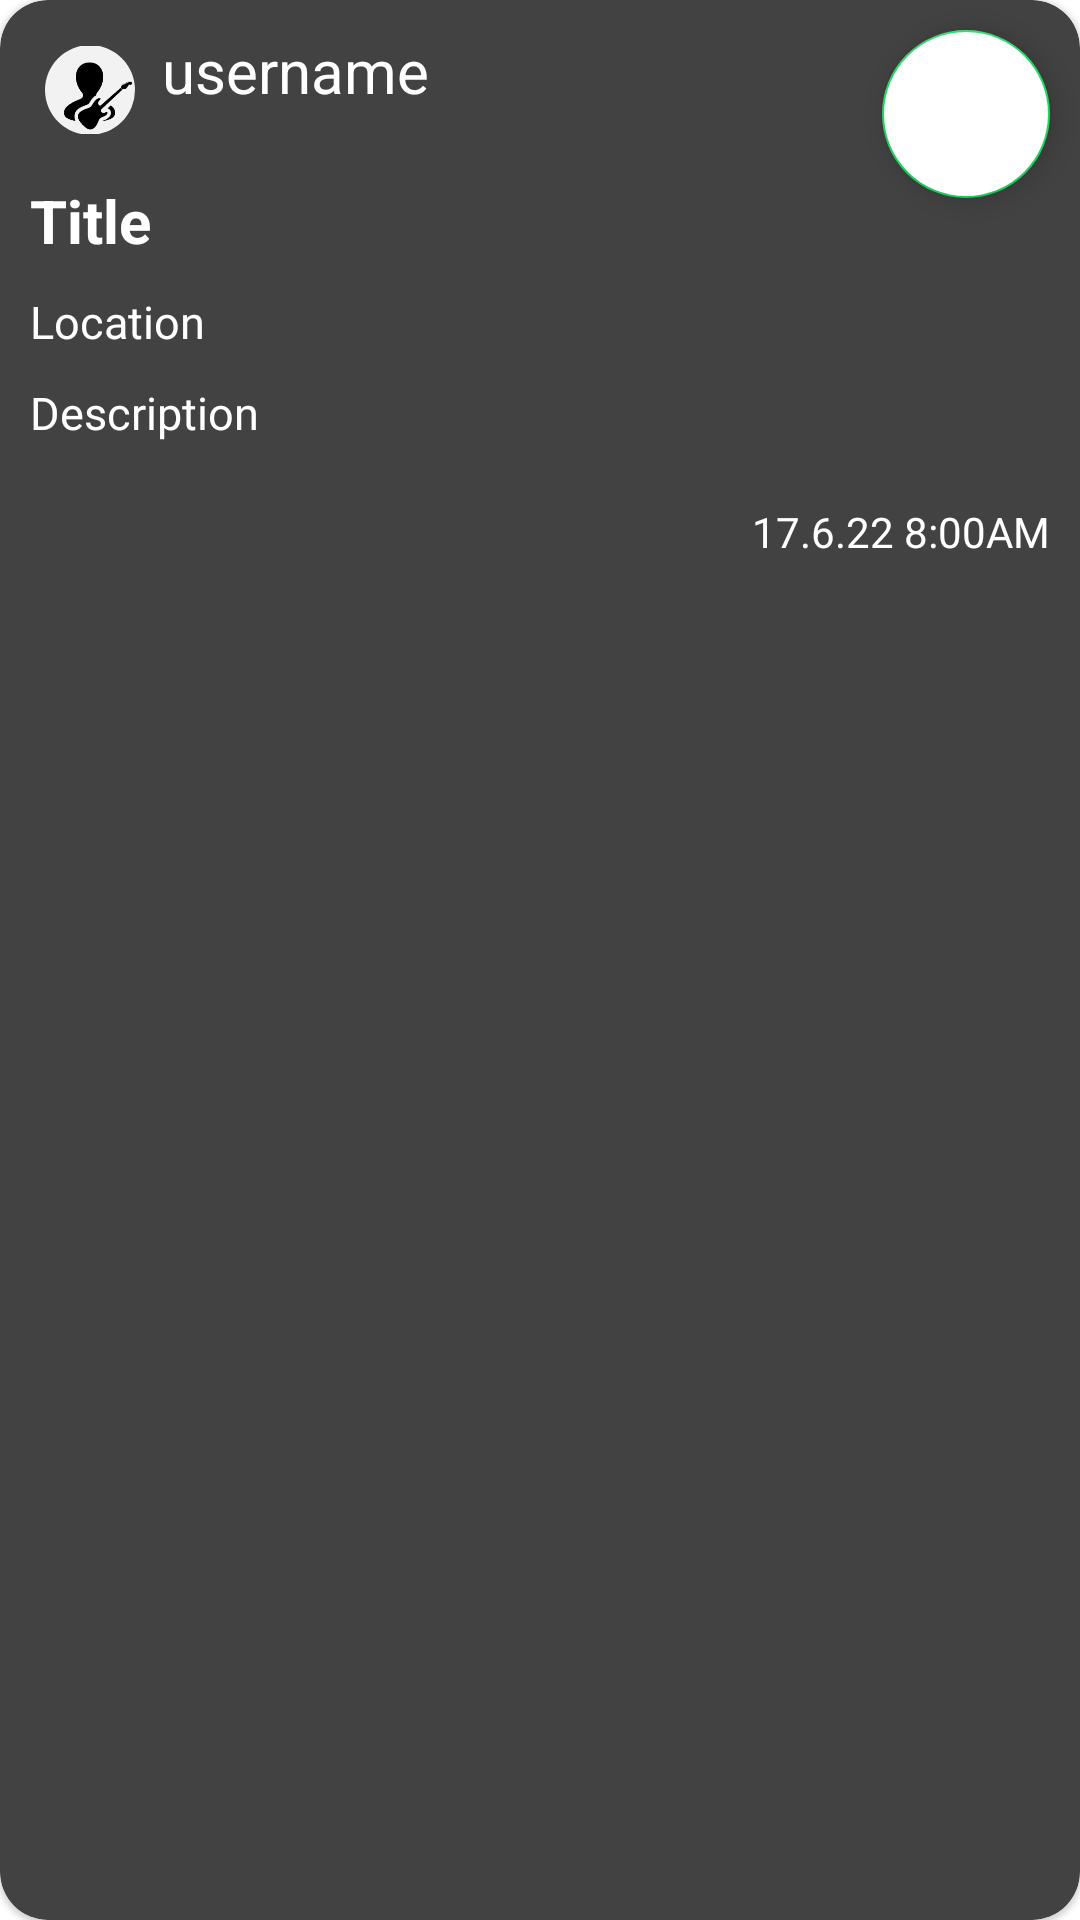

Icons on this 1080 × 1920 Android screen, each with the point to tap as point (x, y):
defaultpp: point (90, 90)
